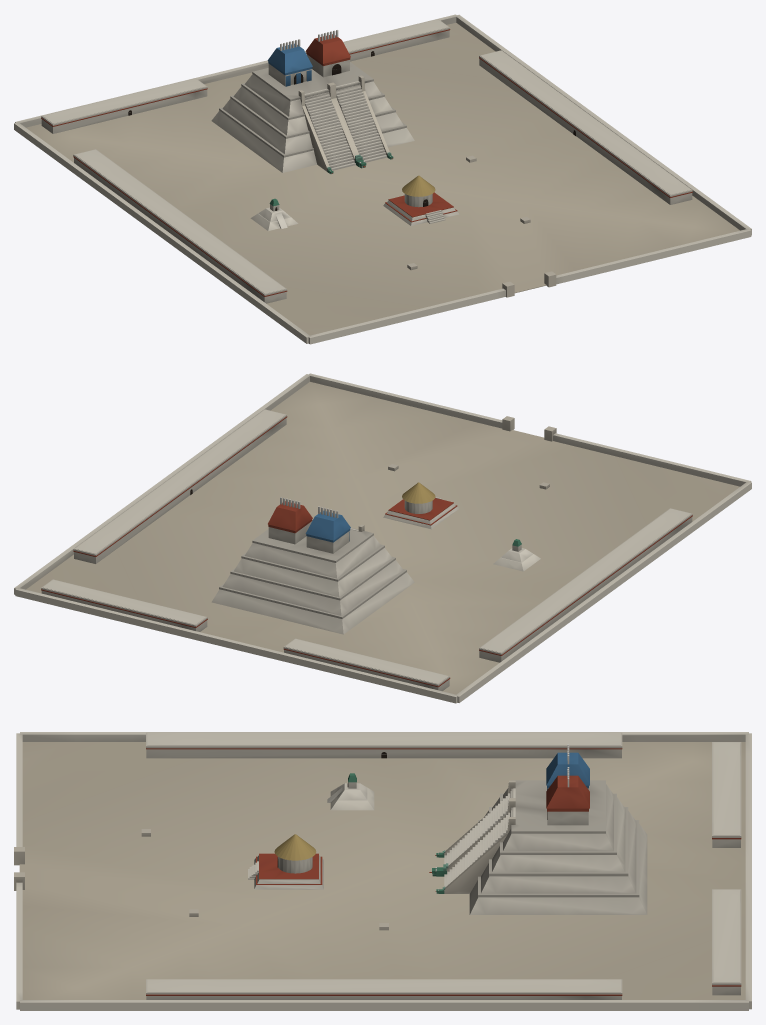
The model's file is tlatelolco-temple.glb.
3 views of the same model, one above another, from view 1: azimuth 30°, elevation 25°; view 2: azimuth 150°, elevation 25°; view 3: azimuth 270°, elevation 25° (orthographic). The views are drawn at different scales.
Parts seen in each view (by area): view 1: p0_paving, p2_temples, p1_pyramid; view 2: p0_paving, p2_temples, p1_pyramid; view 3: p0_paving, p2_temples, p1_pyramid.
Boxes of the visible parts, x1,y1,x2,y2 form: p0_paving: [14, 14, 751, 344]; p2_temples: [41, 19, 692, 303]; p1_pyramid: [211, 62, 414, 173]; p0_paving: [14, 373, 751, 703]; p2_temples: [41, 409, 692, 691]; p1_pyramid: [211, 518, 414, 634]; p0_paving: [14, 732, 751, 1010]; p2_temples: [141, 732, 741, 999]; p1_pyramid: [429, 780, 647, 914].
Bounding box in the file's own units: 202 × 39.77 × 233.
